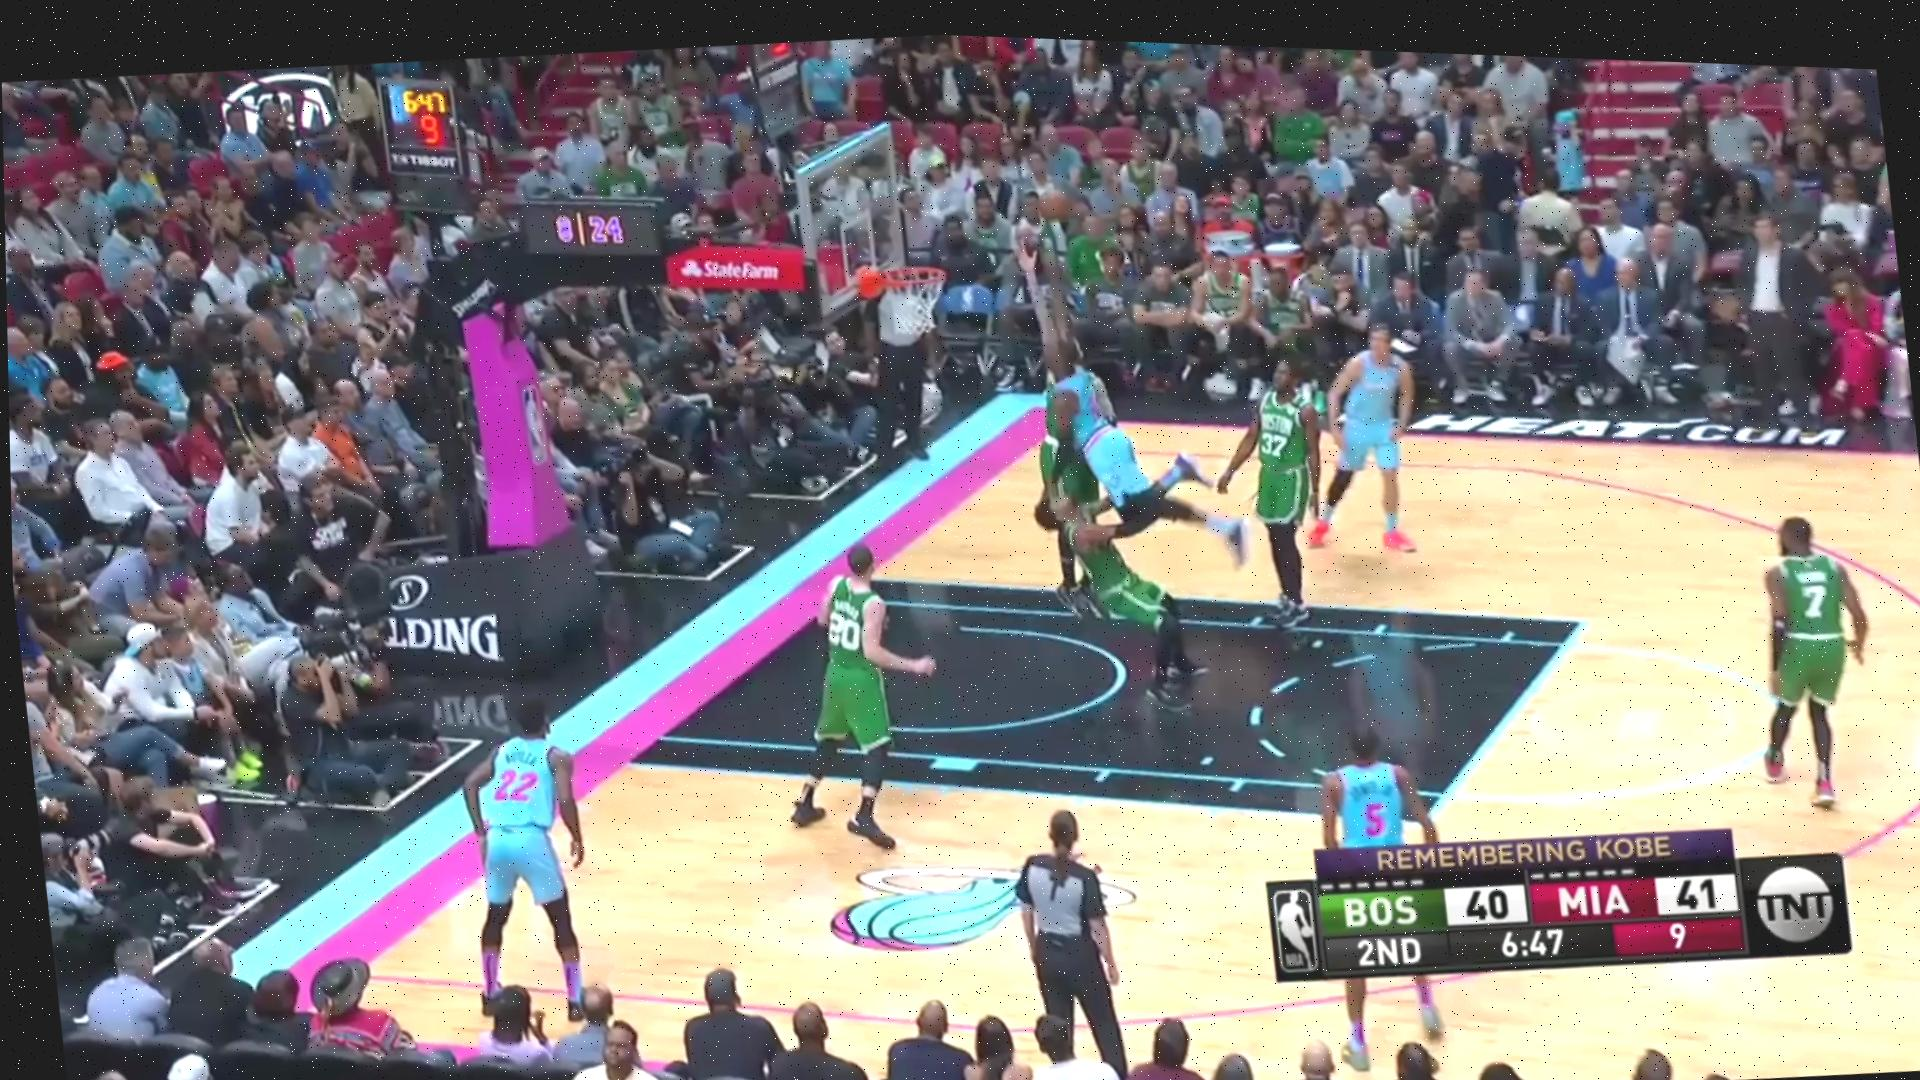foul: (1010, 311, 1215, 702)
